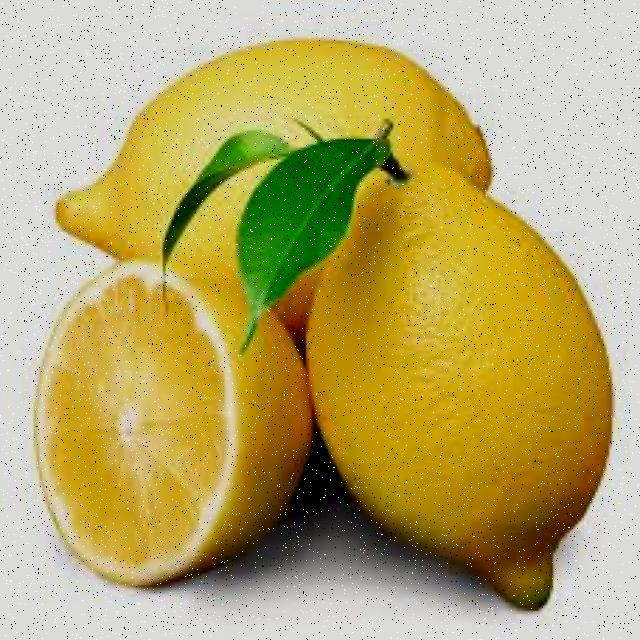Lemon: (309, 168, 612, 604), (56, 41, 494, 261), (36, 261, 314, 586), (171, 165, 271, 279)
